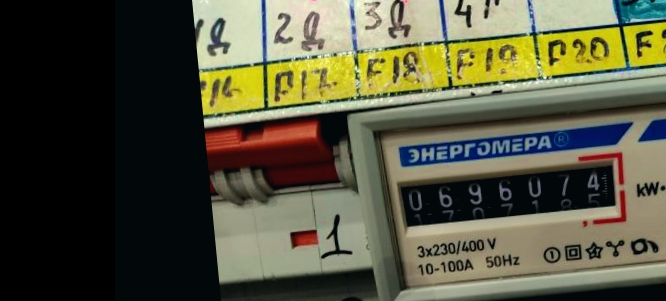0: (404, 185, 425, 211), (525, 172, 544, 198)
4: (583, 166, 601, 189)
5: (587, 191, 604, 207)
6: (497, 174, 516, 202), (436, 182, 455, 208)
7: (555, 170, 575, 196)
9: (466, 178, 484, 206)
screen: (386, 146, 632, 238)
